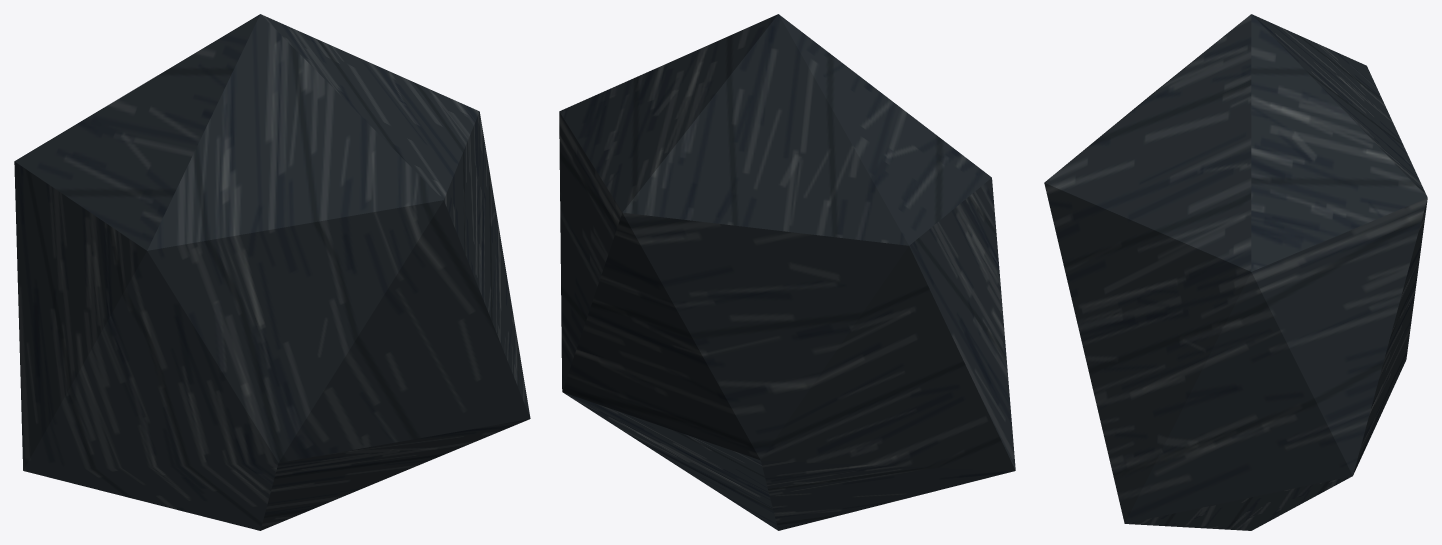
File: cave-rock.glb
3 views of the same model, side by side, from view 1: azimuth 30°, elevation 25°; view 2: azimuth 150°, elevation 25°; view 3: azimuth 270°, elevation 25° (orthographic).
Visible parts, largest first — view 1: Rock mass; view 2: Rock mass; view 3: Rock mass.
Part boxes in pixels (<box>): Rock mass: <box>14,14,530,530</box>; Rock mass: <box>559,14,1015,530</box>; Rock mass: <box>1044,14,1427,530</box>.
Bounding box in the file's own units: 2.38 × 2.58 × 1.73.
Materials: 1 (1 with a texture image).
